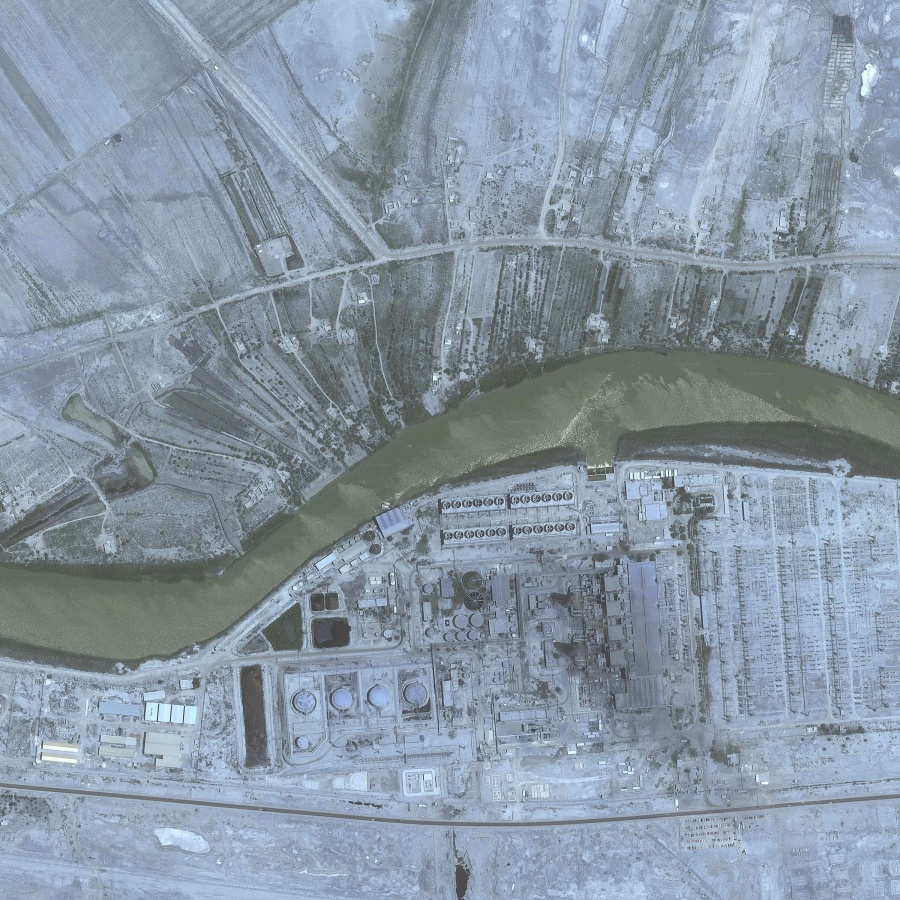PowerPlant: (217, 485, 717, 784)
